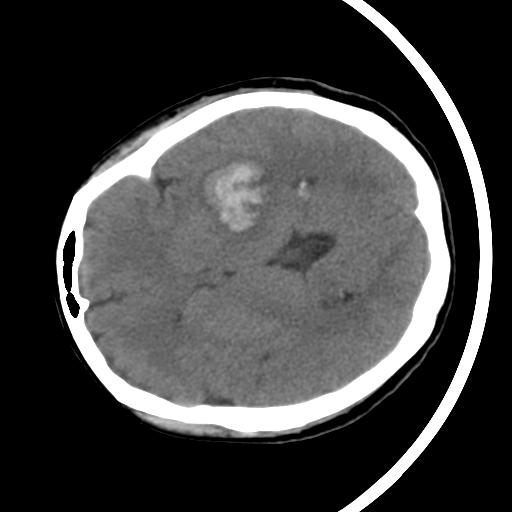a: (183, 141, 287, 252)
